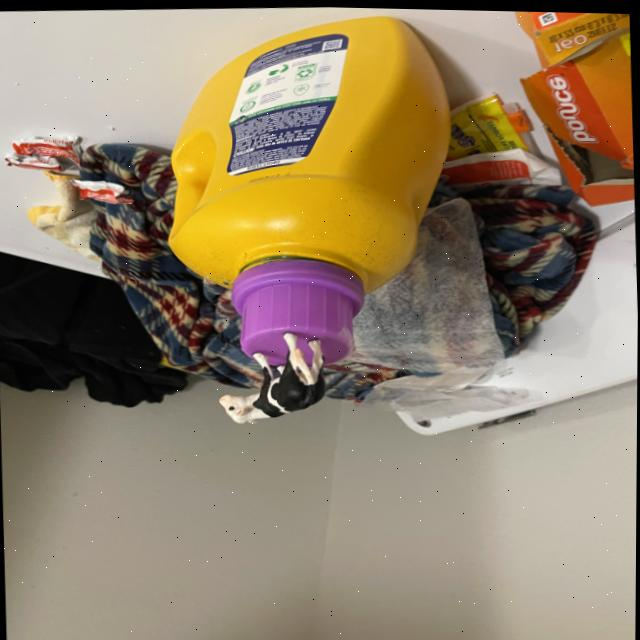cow: (207, 318, 347, 445)
